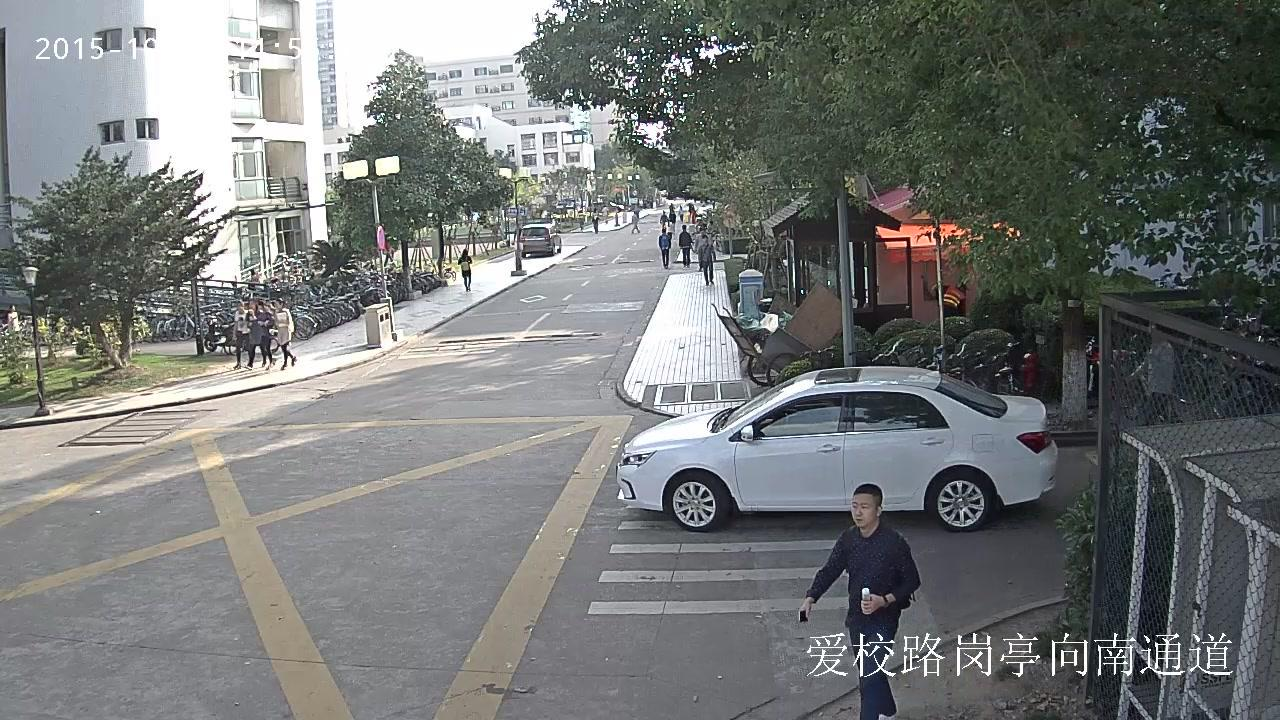person: (797, 483, 921, 720), (1130, 327, 1175, 429), (272, 297, 296, 370), (251, 301, 276, 366), (232, 300, 253, 369), (697, 234, 715, 285), (457, 249, 472, 291), (678, 225, 692, 267), (658, 229, 671, 268), (630, 211, 639, 233), (591, 210, 598, 233)
